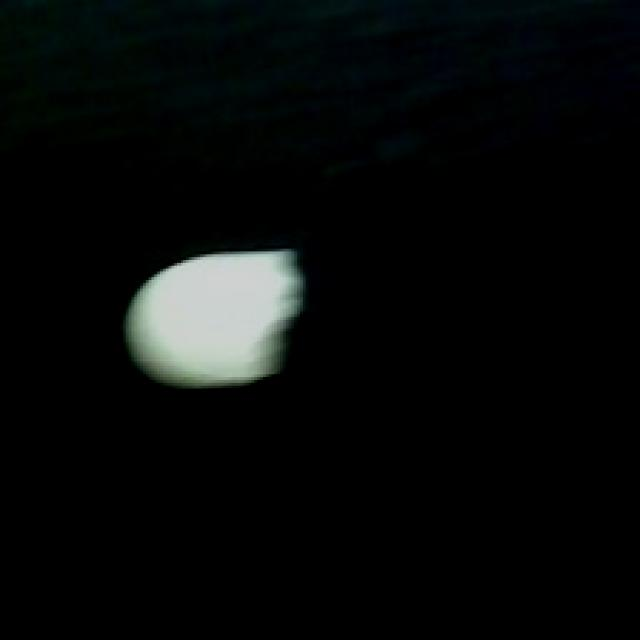defected: (123, 246, 309, 397)
